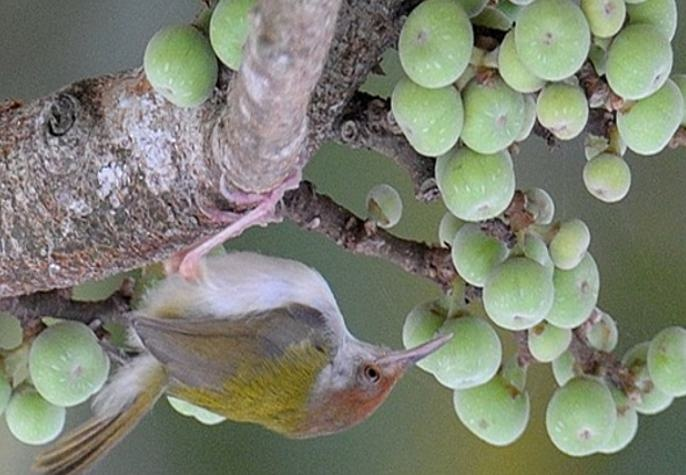tailorbird: (69, 251, 479, 450)
